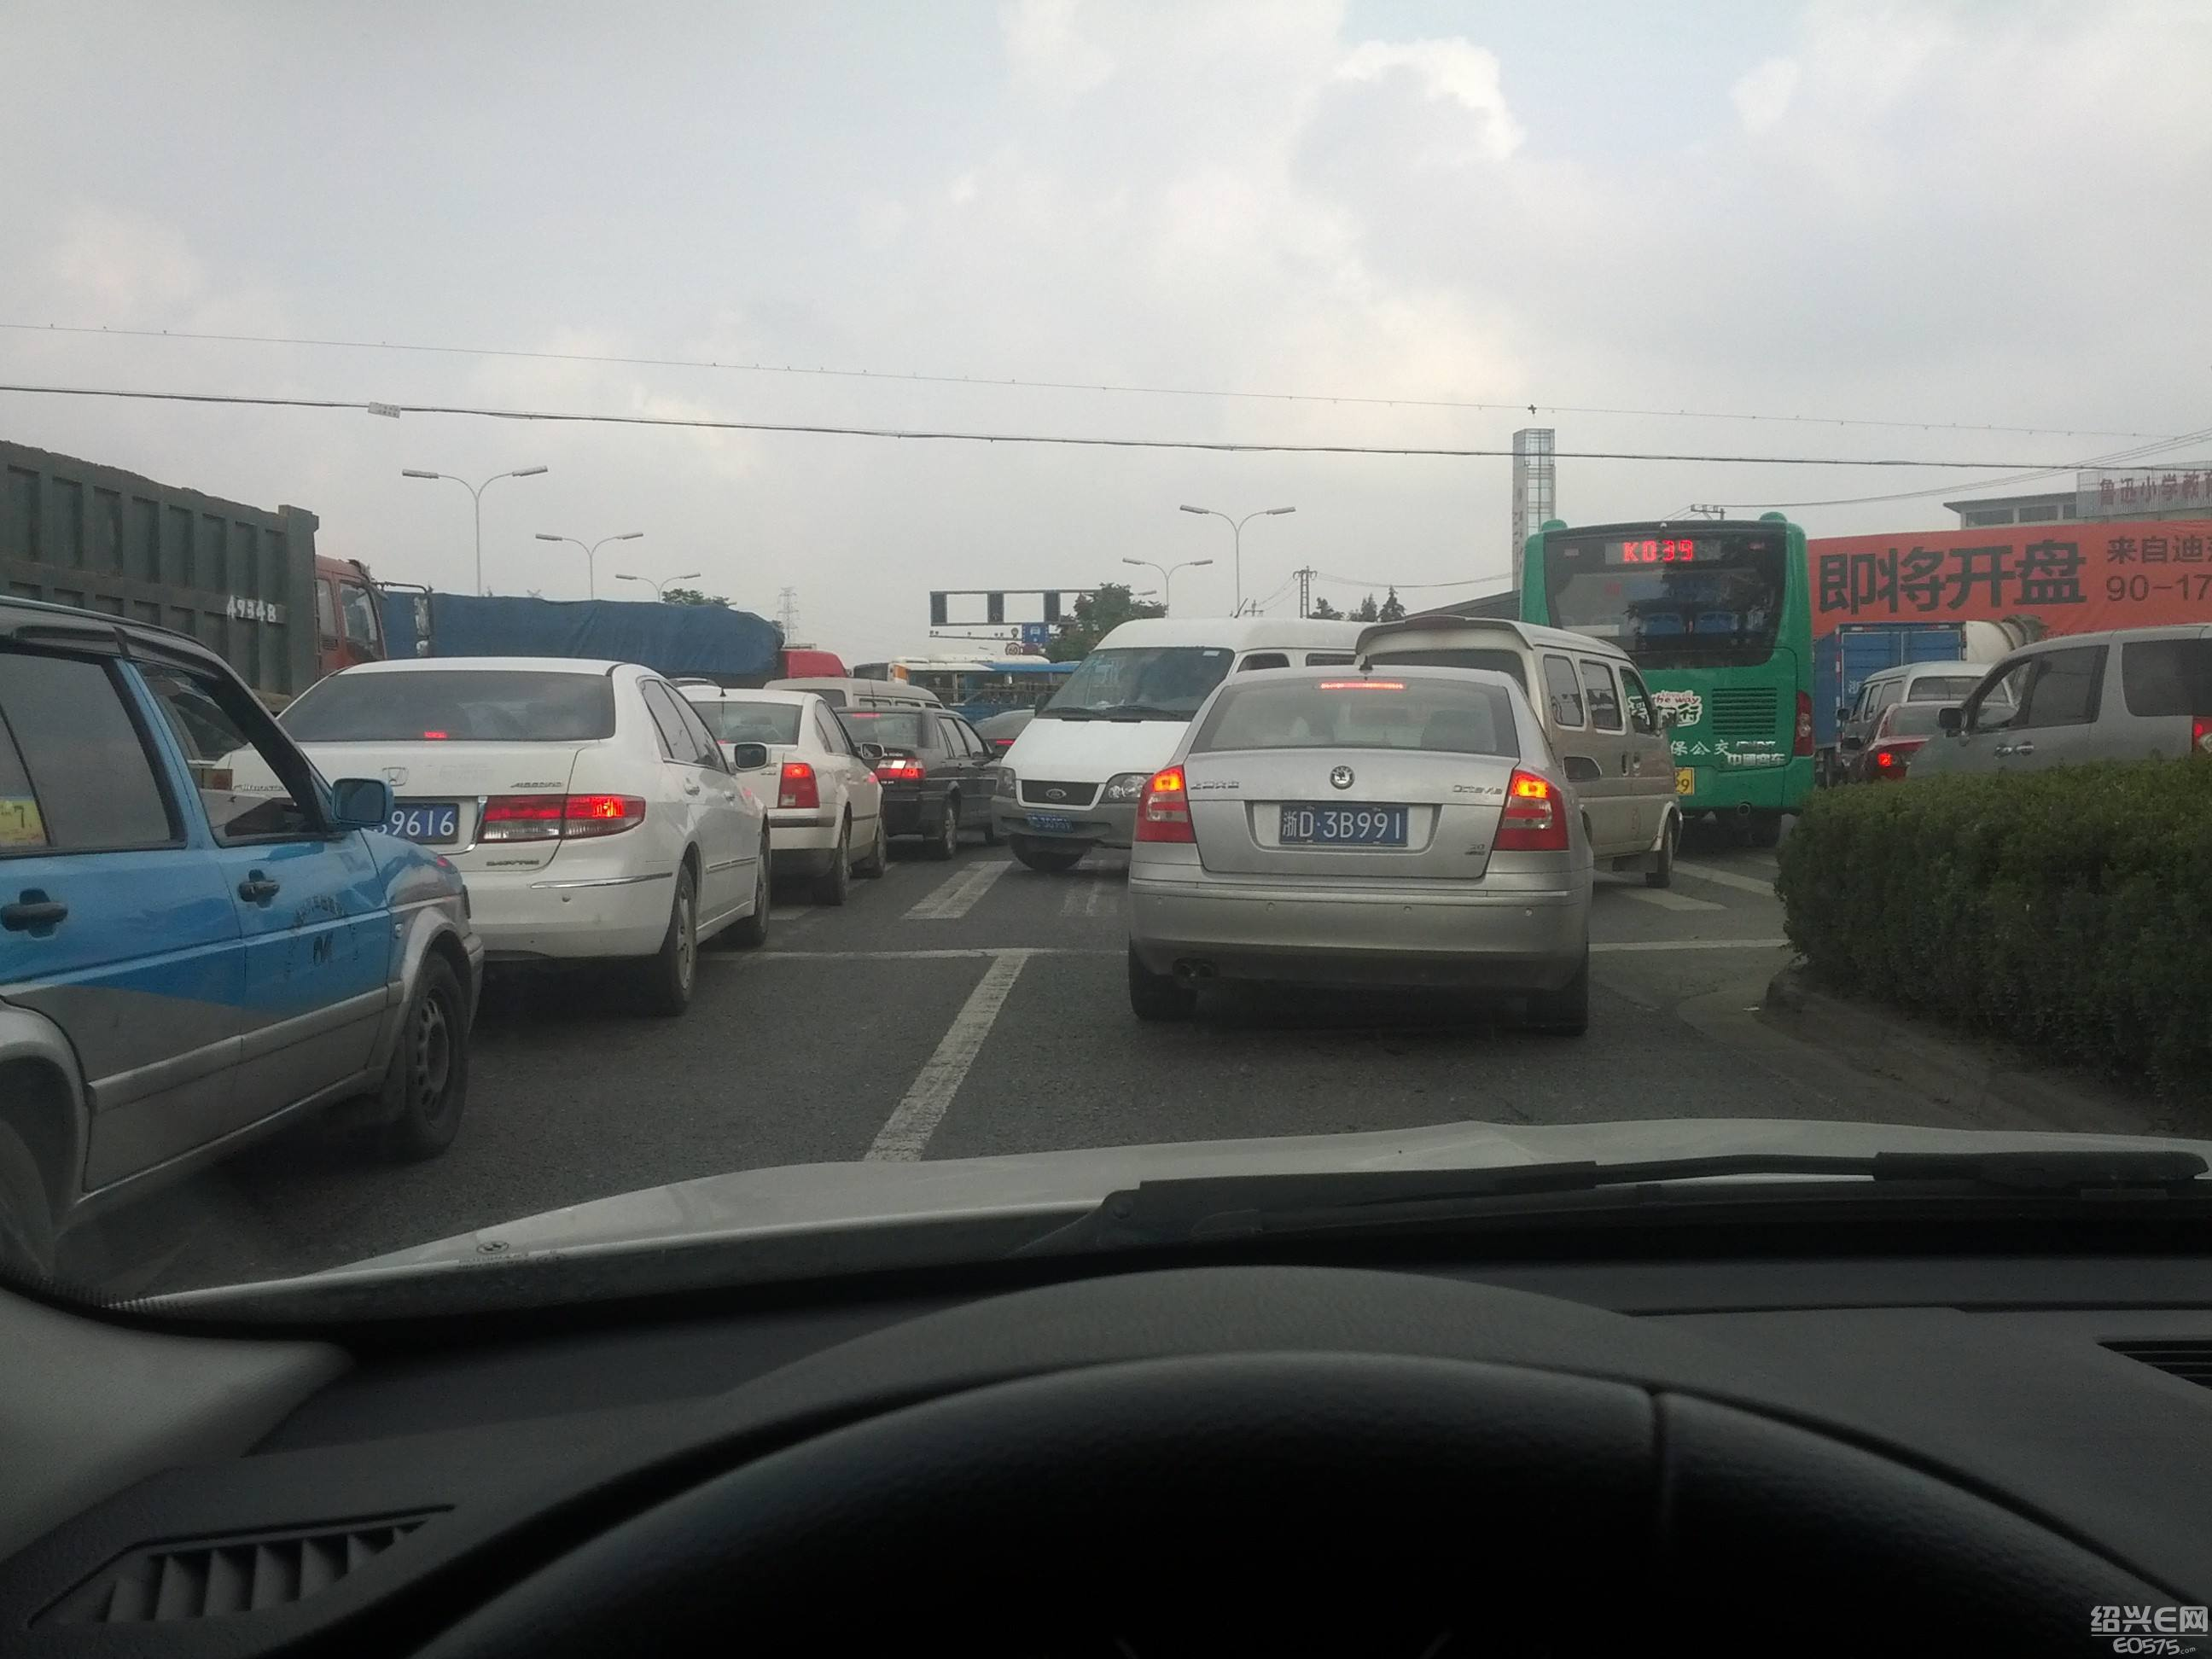bus: (1521, 502, 1808, 826), (850, 647, 1115, 775)
car: (209, 660, 772, 1021), (1116, 662, 1588, 1039), (577, 687, 888, 904)
microbus: (989, 612, 1433, 868), (1907, 629, 2212, 870)
truck: (0, 434, 401, 793), (343, 591, 845, 758)
